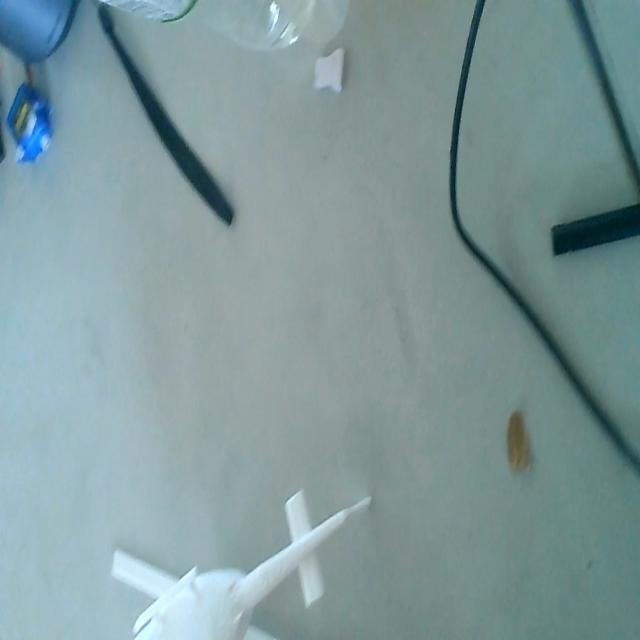Helicopter: (107, 488, 375, 640)
